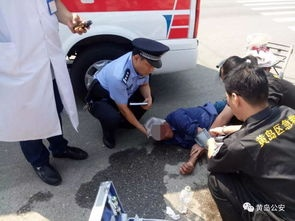falling: (144, 86, 239, 176)
